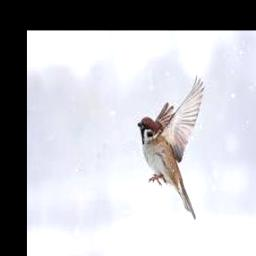Sparrow: (138, 75, 206, 219)
